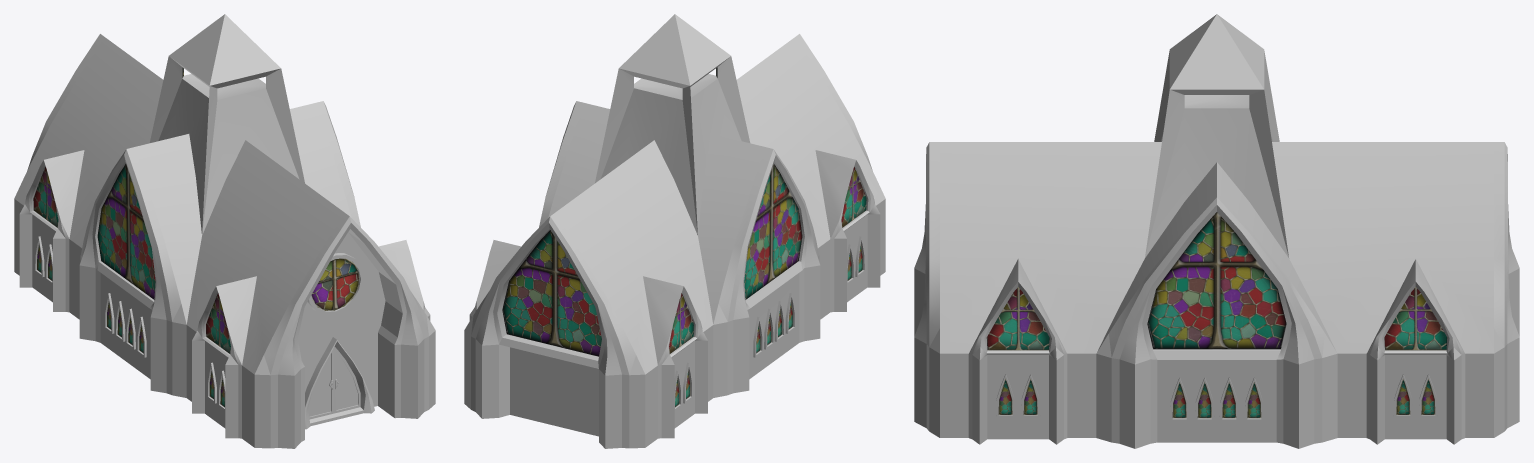
Rendered from ruraltown_chapel_ext.fbx.
3 renders of one model, left to right at view 1: azimuth 30°, elevation 25°; view 2: azimuth 150°, elevation 25°; view 3: azimuth 270°, elevation 25°, orthographic. The views are drawn at different scales.
Visible parts, largest first — view 1: ruraltown_chapel_ext; view 2: ruraltown_chapel_ext; view 3: ruraltown_chapel_ext.
Boxes of the visible parts, x1,y1,x2,y2 form: ruraltown_chapel_ext: (14, 14, 435, 448); ruraltown_chapel_ext: (464, 14, 885, 448); ruraltown_chapel_ext: (914, 14, 1519, 448).
Bounding box in the file's own units: 25.17 × 35.43 × 52.11.
